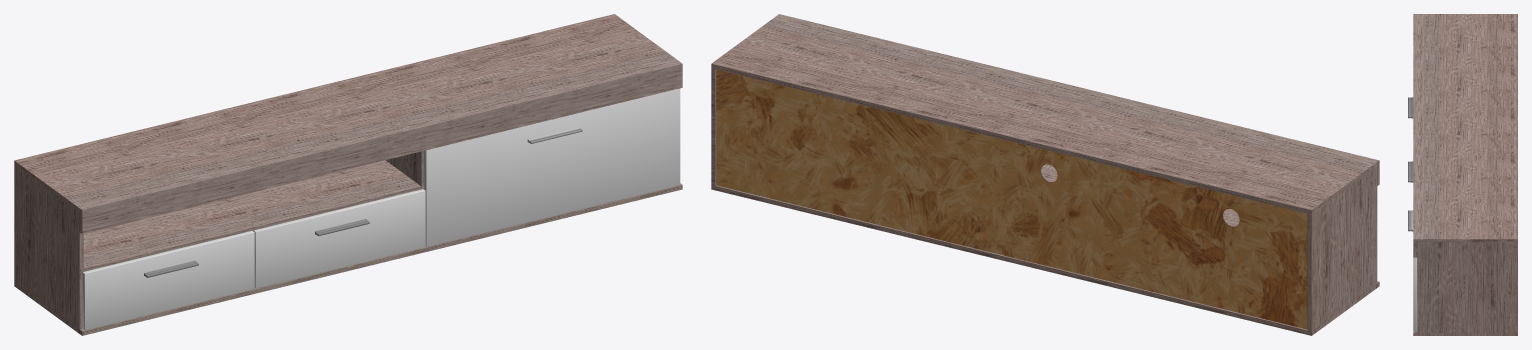
3 views of the same model, side by side, from view 1: azimuth 30°, elevation 25°; view 2: azimuth 150°, elevation 25°; view 3: azimuth 270°, elevation 25° (orthographic). The views are drawn at different scales.
Visible parts, largest first — view 1: #SHL0005_Wood_Gray_TV_(210cm)_0, #SHL0005_Door_3, #SHL0005_Drawer_L_2, #SHL0005_Drawer_R_1; view 2: #SHL0005_Wood_Gray_TV_(210cm)_0; view 3: #SHL0005_Wood_Gray_TV_(210cm)_0, #SHL0005_Door_3, #SHL0005_Drawer_R_1, #SHL0005_Drawer_L_2.
Boxes of the visible parts, box(x1,y1,x2,y2) form: #SHL0005_Wood_Gray_TV_(210cm)_0: box(14, 14, 682, 335); #SHL0005_Door_3: box(424, 88, 680, 246); #SHL0005_Drawer_L_2: box(82, 231, 254, 330); #SHL0005_Drawer_R_1: box(253, 189, 425, 288); #SHL0005_Wood_Gray_TV_(210cm)_0: box(711, 14, 1379, 335); #SHL0005_Wood_Gray_TV_(210cm)_0: box(1413, 14, 1517, 335); #SHL0005_Door_3: box(1408, 210, 1416, 331); #SHL0005_Drawer_R_1: box(1408, 161, 1413, 182); #SHL0005_Drawer_L_2: box(1408, 97, 1413, 118).
Bounding box in the file's own units: 2.1 × 0.435 × 0.4331.
Materials: 6 (2 with a texture image).
